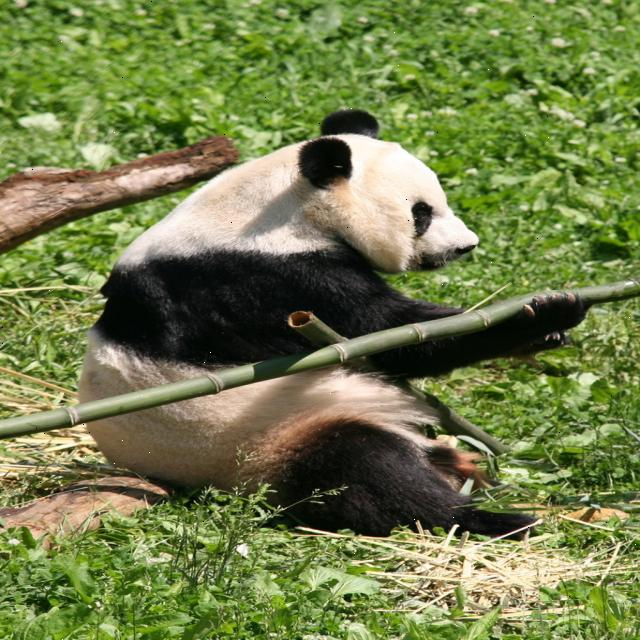panda: (72, 106, 588, 538)
